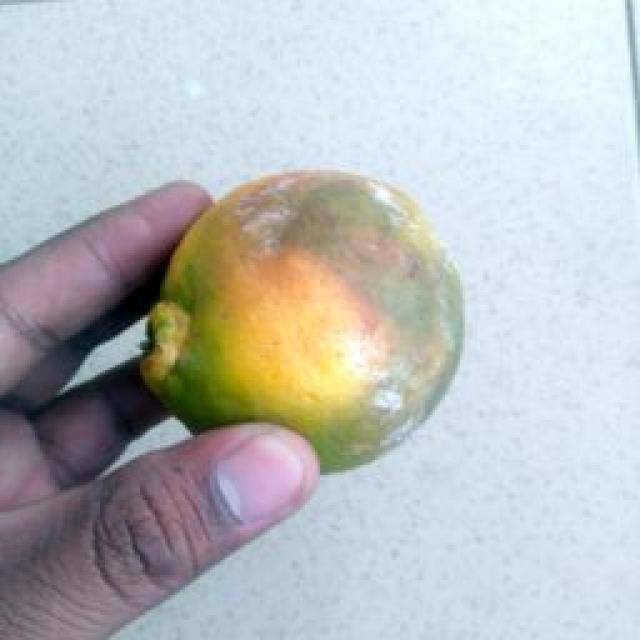Bad_Orange: (141, 172, 461, 470)
